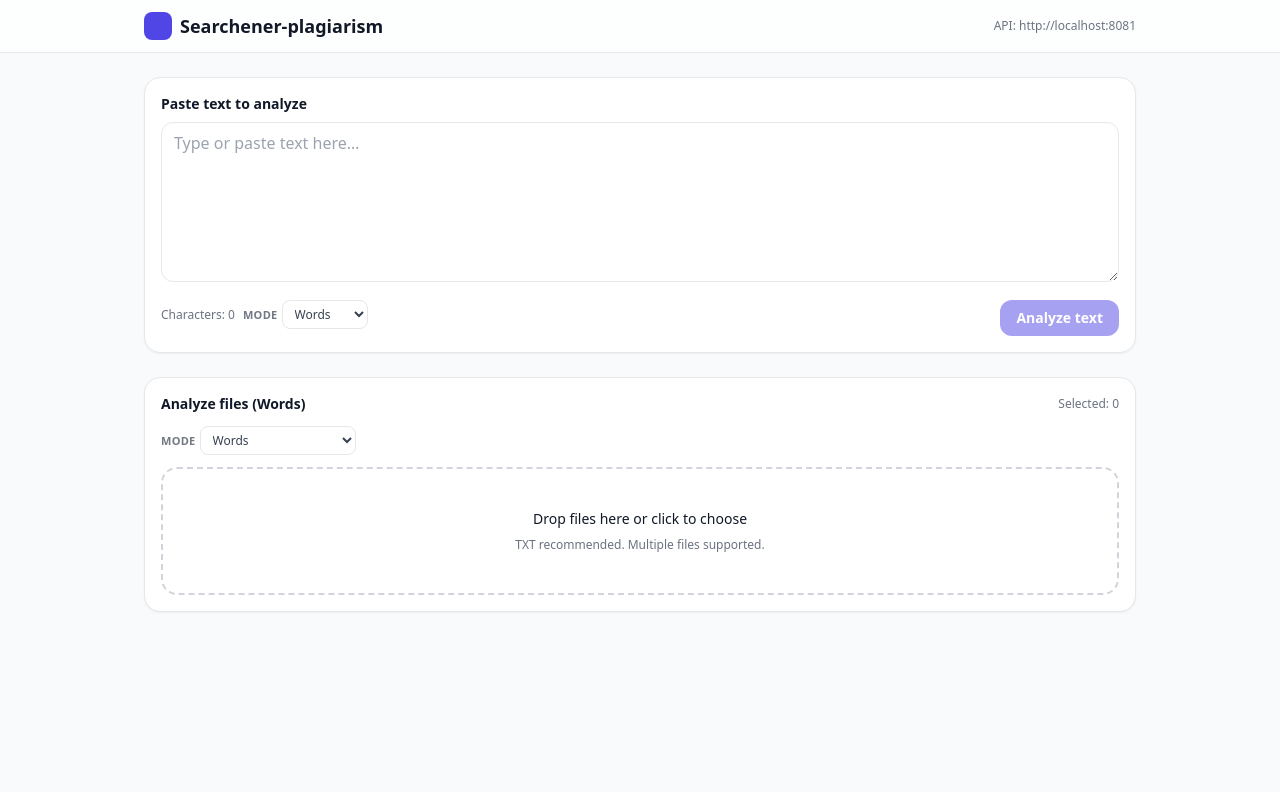
Scenario: App UI and behavior › text analysis (mode=words): shows stats table and plagiarism table
Type "hello world world" into the text box with placeholder "Type or paste text here…" at (640, 202), box x1=161 y1=122 x2=1119 y2=282
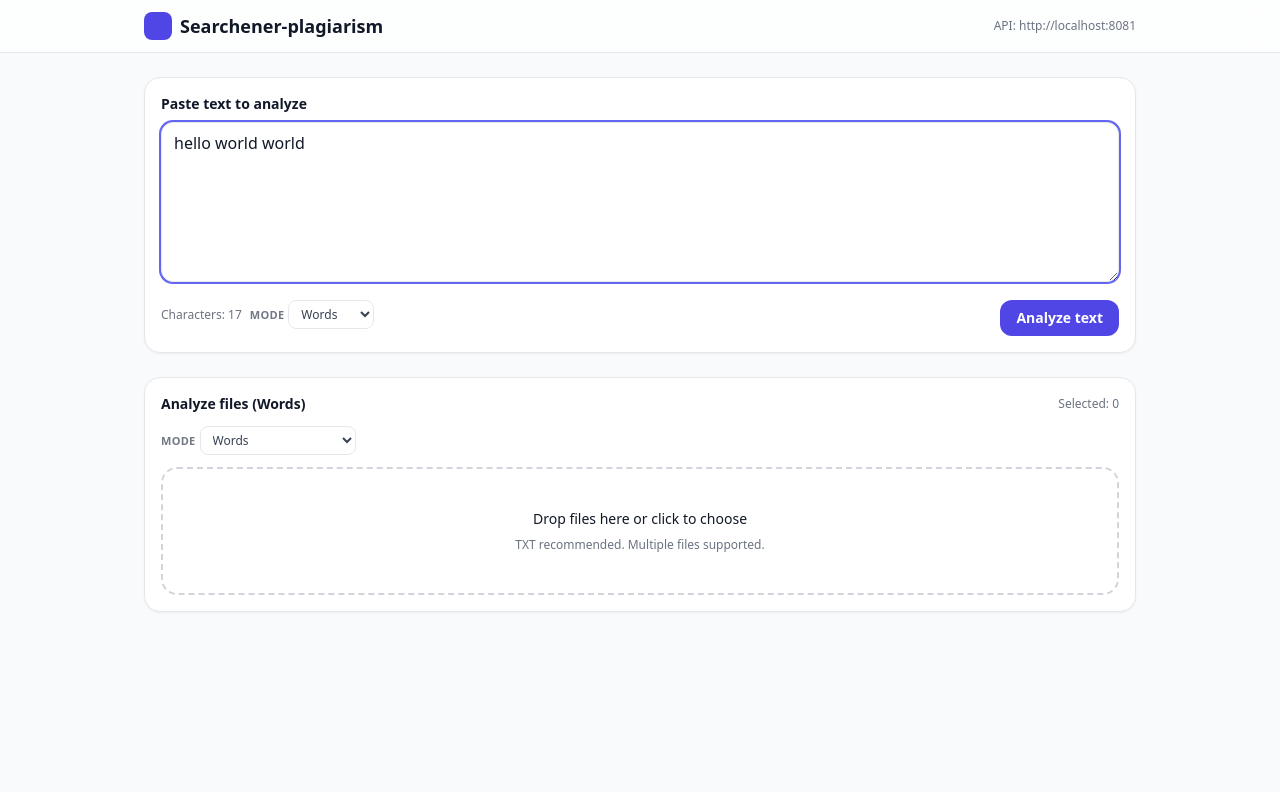
Now the button "Analyze text" is enabled
Click the button "Analyze text" at (1060, 318), box x1=1000 y1=300 x2=1119 y2=336
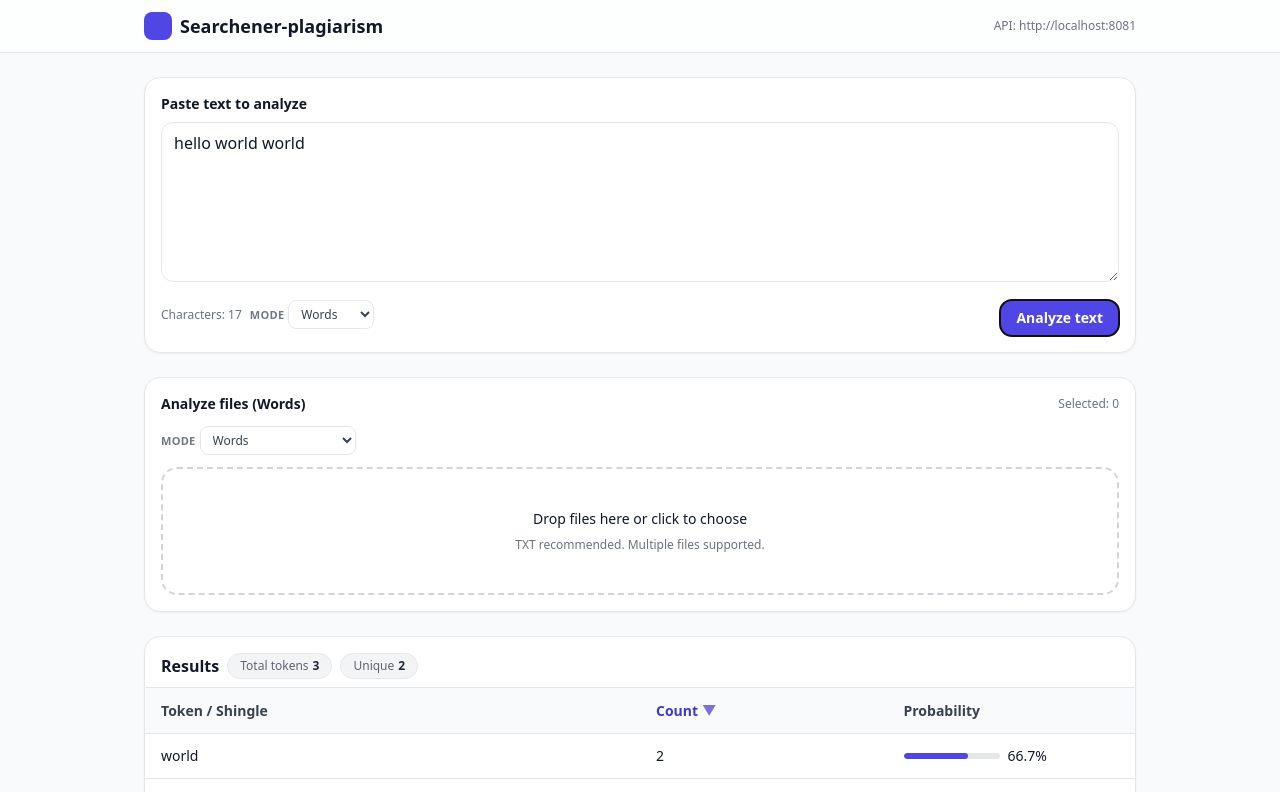
Now the text "world" is shown, box x1=145 y1=734 x2=640 y2=779
Now the text "Total tokens" is shown, box x1=240 y1=657 x2=309 y2=674
Now the text "3" is shown, box x1=313 y1=657 x2=320 y2=674
